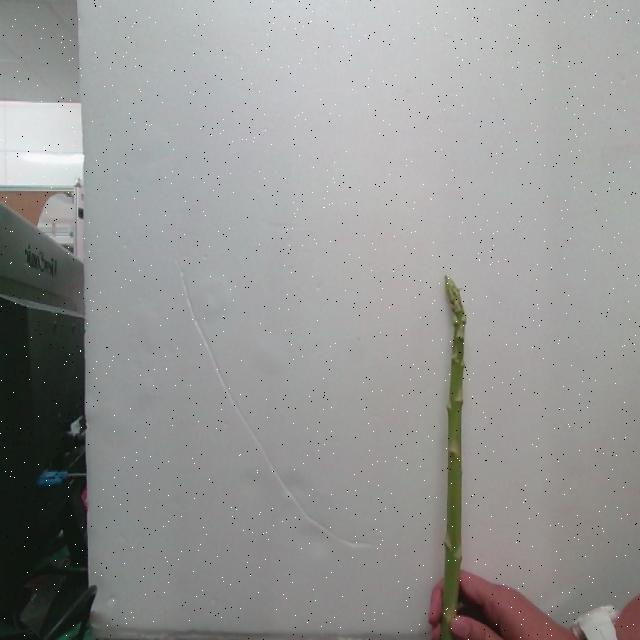aspargus: (434, 280, 469, 640)
